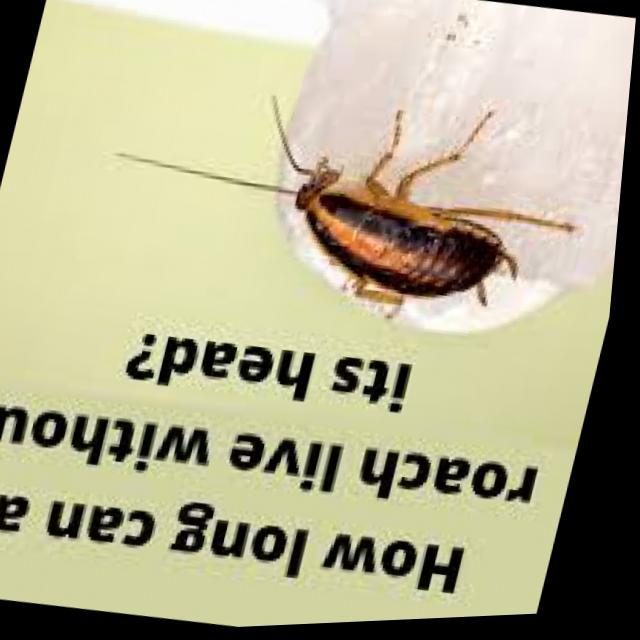Cockroach: (87, 52, 616, 374)
